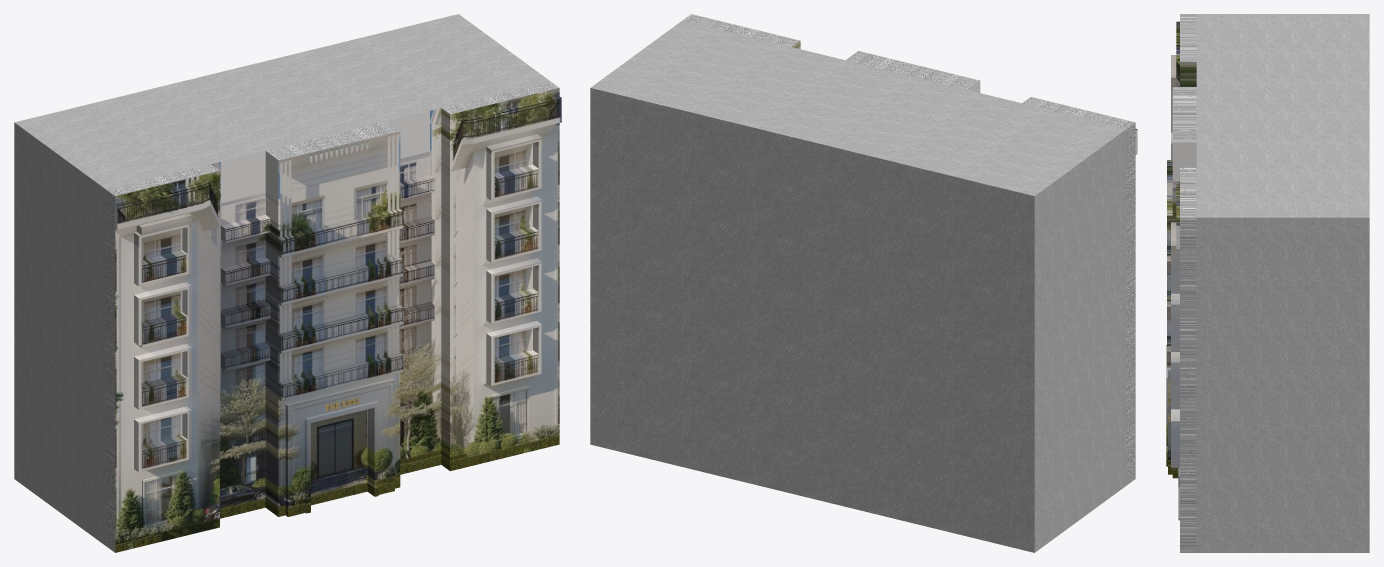
File: ZameenOpal.fbx
The picture shows the model from 3 angles, left to right: view 1: azimuth 30°, elevation 25°; view 2: azimuth 150°, elevation 25°; view 3: azimuth 270°, elevation 25°; orthographic projection. The views are drawn at different scales.
Visible parts, largest first — view 1: Cube; view 2: Cube; view 3: Cube.
Boxes of the visible parts, bbox=[...] form: Cube: bbox=[14, 14, 561, 552]; Cube: bbox=[590, 14, 1137, 552]; Cube: bbox=[1166, 14, 1369, 552].
Size of the model in its own units: 4692 by 3600 by 1981.
5 materials, 2 textured.
